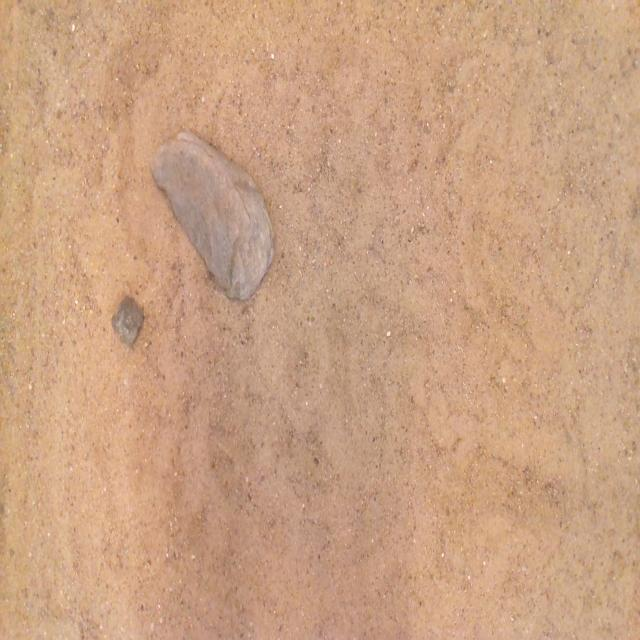rock: (152, 132, 273, 299), (111, 298, 144, 347)
